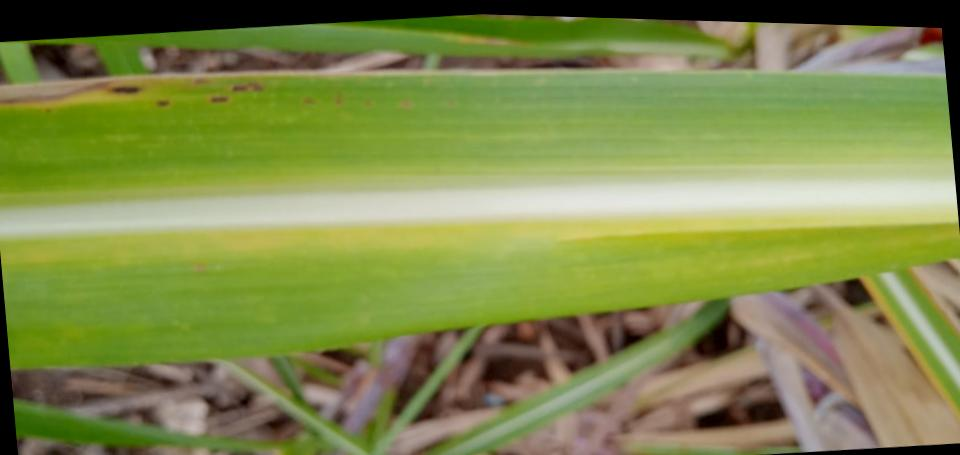Rust: (231, 81, 264, 93), (110, 84, 144, 95), (211, 95, 230, 103), (302, 94, 316, 104), (363, 96, 374, 107), (193, 76, 208, 84), (157, 98, 171, 106), (333, 95, 343, 104)
Yellow: (0, 73, 220, 107)
